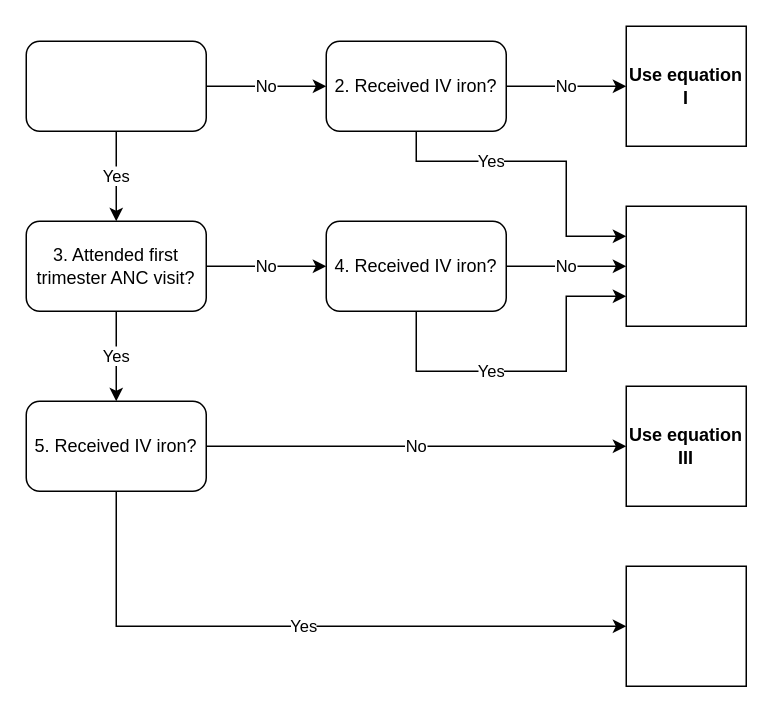
The diagram is 773 pixels wide and 713 high, and some of its shapes have lost their labels. The shapes that lost their labels are listed below. From the top down, each one's box as (x1, y1, x2, y2) in pixels, then its label:
(25, 40, 206, 131): 1. Received IFA/MMS?
(625, 205, 746, 326): Use equation II
(625, 565, 746, 686): Use equation IV
